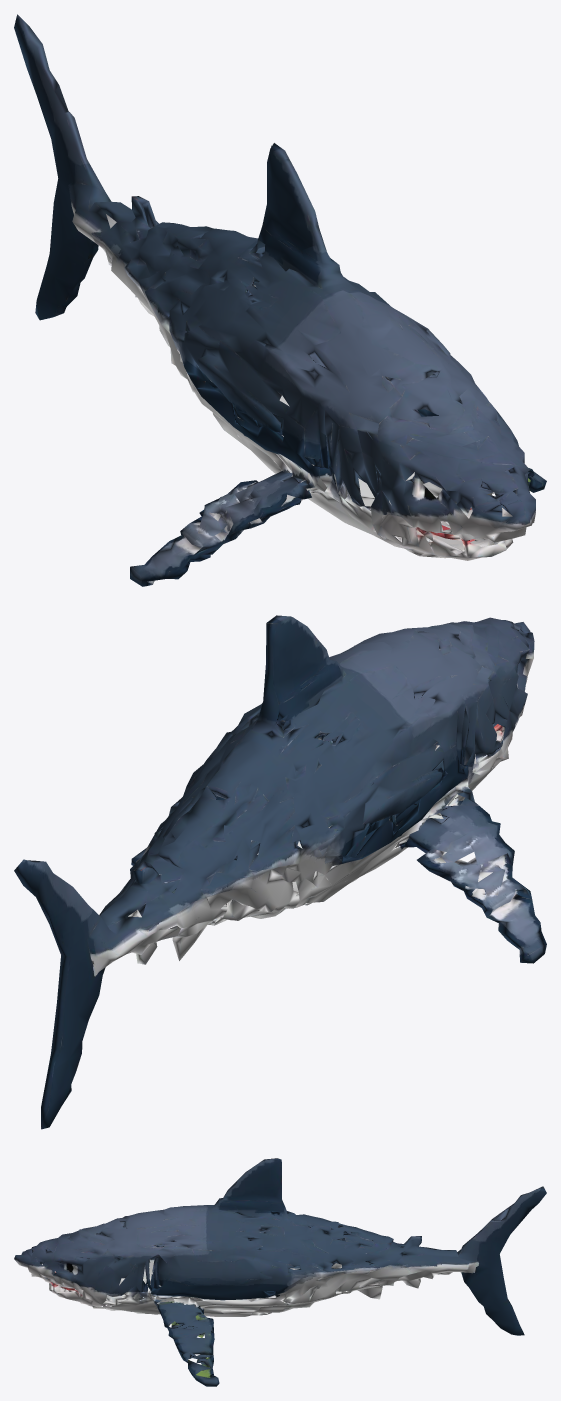
File: shark-trellis2-1024-cascade.glb
3 renders of one model, top to bottom at view 1: azimuth 30°, elevation 25°; view 2: azimuth 150°, elevation 25°; view 3: azimuth 270°, elevation 25°, orthographic. The views are drawn at different scales.
Visible parts, largest first — view 1: world; view 2: world; view 3: world.
Boxes of the visible parts, left/top/right/bottom form: world: left=14, top=14, right=546, bottom=586; world: left=14, top=615, right=546, bottom=1129; world: left=14, top=1158, right=546, bottom=1386.
Bounding box in the file's own units: 0.4586 × 0.369 × 1.
Materials: 1 (1 with a texture image).
